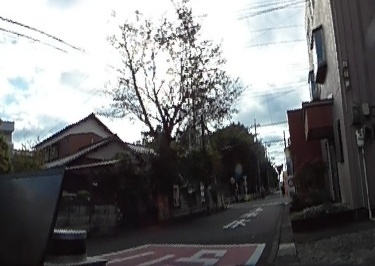person: (229, 176, 239, 202)
